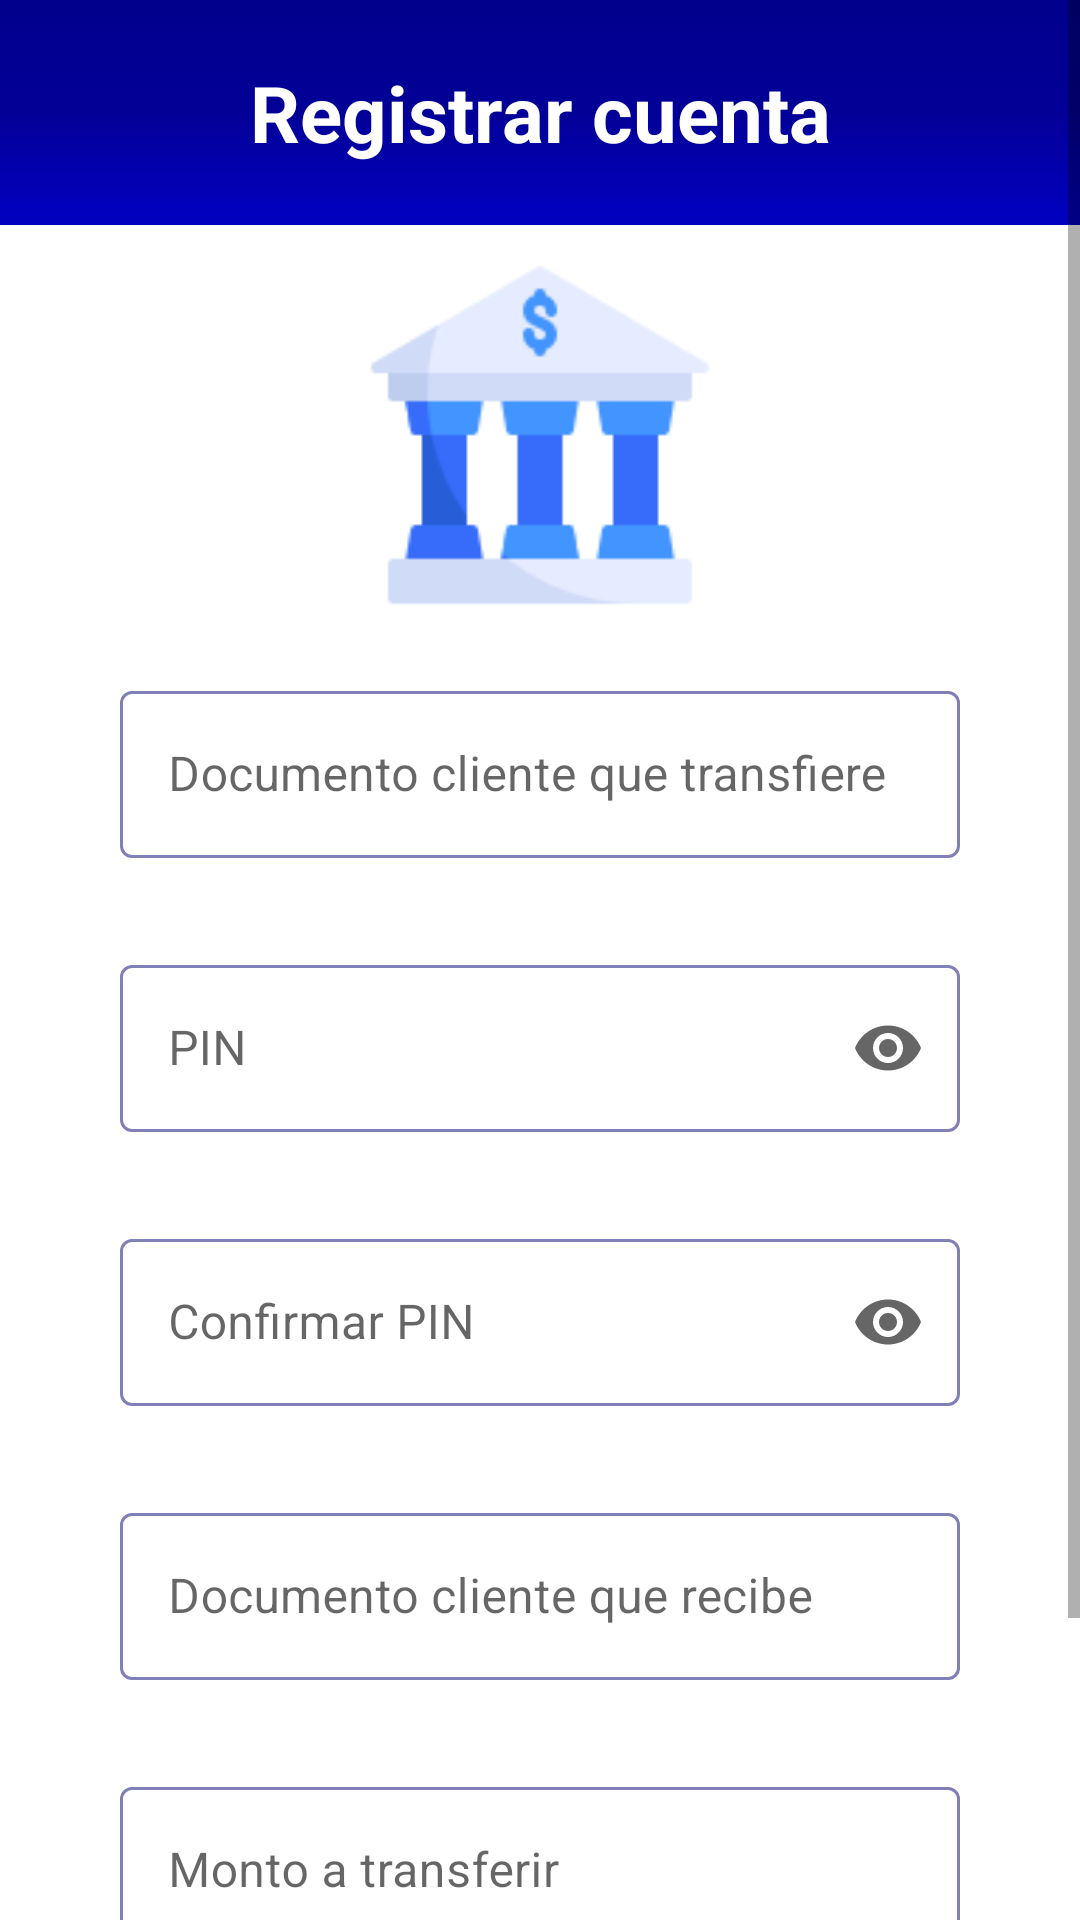

Locate icon controls on the screen. Image size 1080 x 1920, boxes as (x1,y1,x2,y2).
banco: (371,270,705,604)
